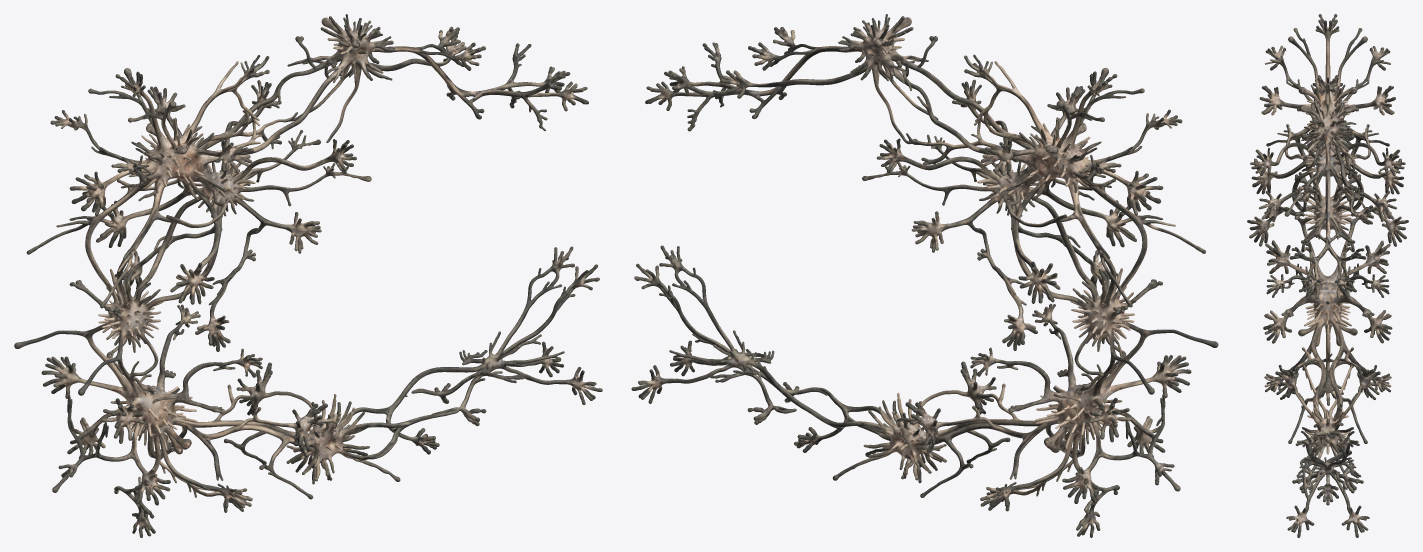
File: neuron.glb
3 renders of one model, left to right at view 1: azimuth 30°, elevation 25°; view 2: azimuth 150°, elevation 25°; view 3: azimuth 270°, elevation 25°, orthographic. The views are drawn at different scales.
Visible parts, largest first — view 1: tripo_node_17c5734b-e0a5-46b1-98bb-66a3c7c4a1c8; view 2: tripo_node_17c5734b-e0a5-46b1-98bb-66a3c7c4a1c8; view 3: tripo_node_17c5734b-e0a5-46b1-98bb-66a3c7c4a1c8.
Boxes of the visible parts, x1=… form: tripo_node_17c5734b-e0a5-46b1-98bb-66a3c7c4a1c8: x1=14, y1=14, x2=602, y2=537; tripo_node_17c5734b-e0a5-46b1-98bb-66a3c7c4a1c8: x1=631, y1=14, x2=1218, y2=537; tripo_node_17c5734b-e0a5-46b1-98bb-66a3c7c4a1c8: x1=1247, y1=14, x2=1408, y2=537.
Size of the model in its own units: 0.9804 by 0.8139 by 0.3117.
1 material, 1 textured.
